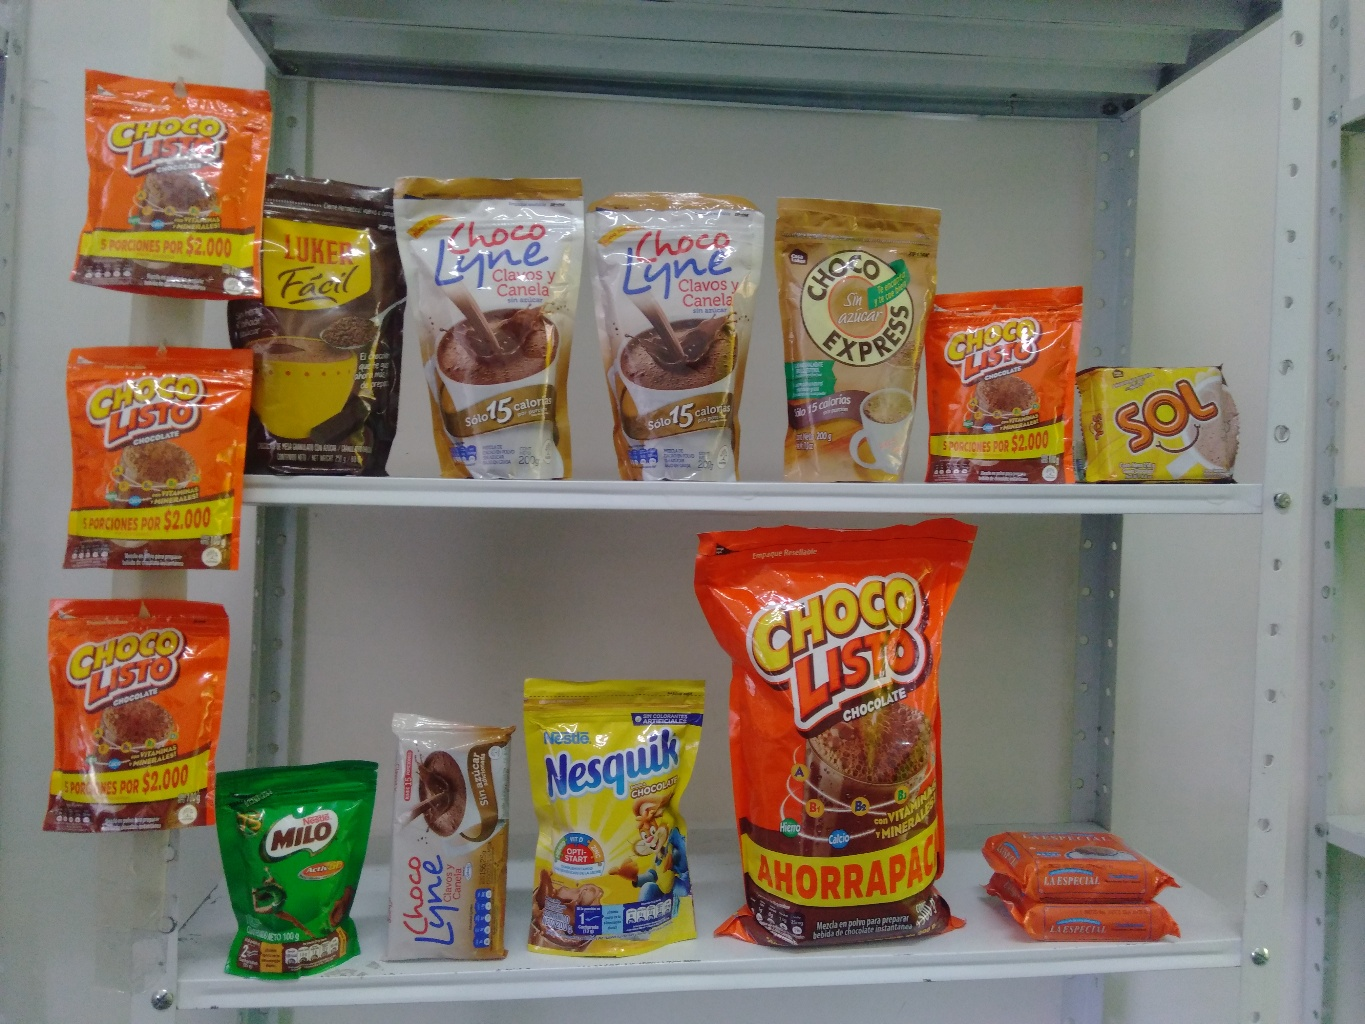COL0170103DYP1,500: (698, 516, 993, 926)
COL0170203DYP10000: (219, 766, 381, 975)
COL0170303DYP20000: (534, 680, 719, 959)
